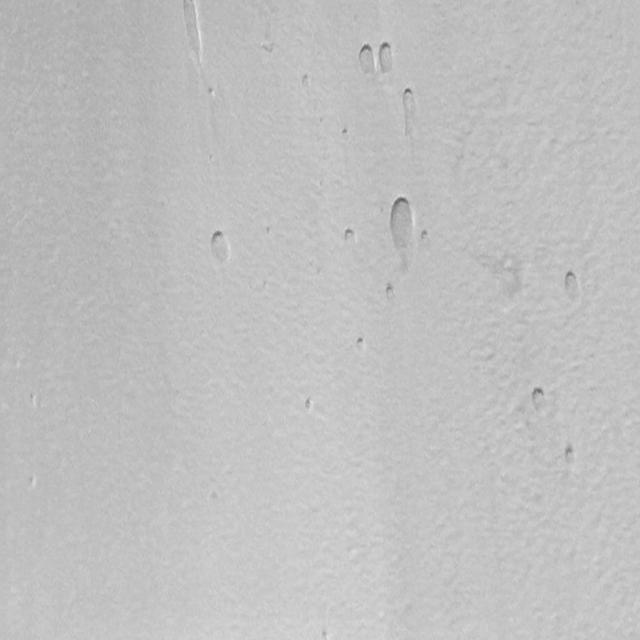pin holes: (384, 192, 418, 259), (182, 0, 204, 75), (396, 88, 421, 133), (206, 230, 234, 268), (376, 41, 399, 74), (357, 42, 379, 76), (562, 270, 585, 302), (530, 385, 553, 415), (561, 442, 580, 470), (340, 227, 360, 249), (25, 391, 43, 414), (260, 40, 278, 56), (383, 284, 397, 303), (355, 335, 369, 354), (303, 397, 317, 415), (300, 74, 313, 93), (418, 229, 431, 244), (339, 126, 352, 140), (318, 626, 331, 638), (205, 86, 216, 100)
